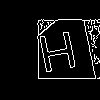H: (35, 30, 82, 83)
